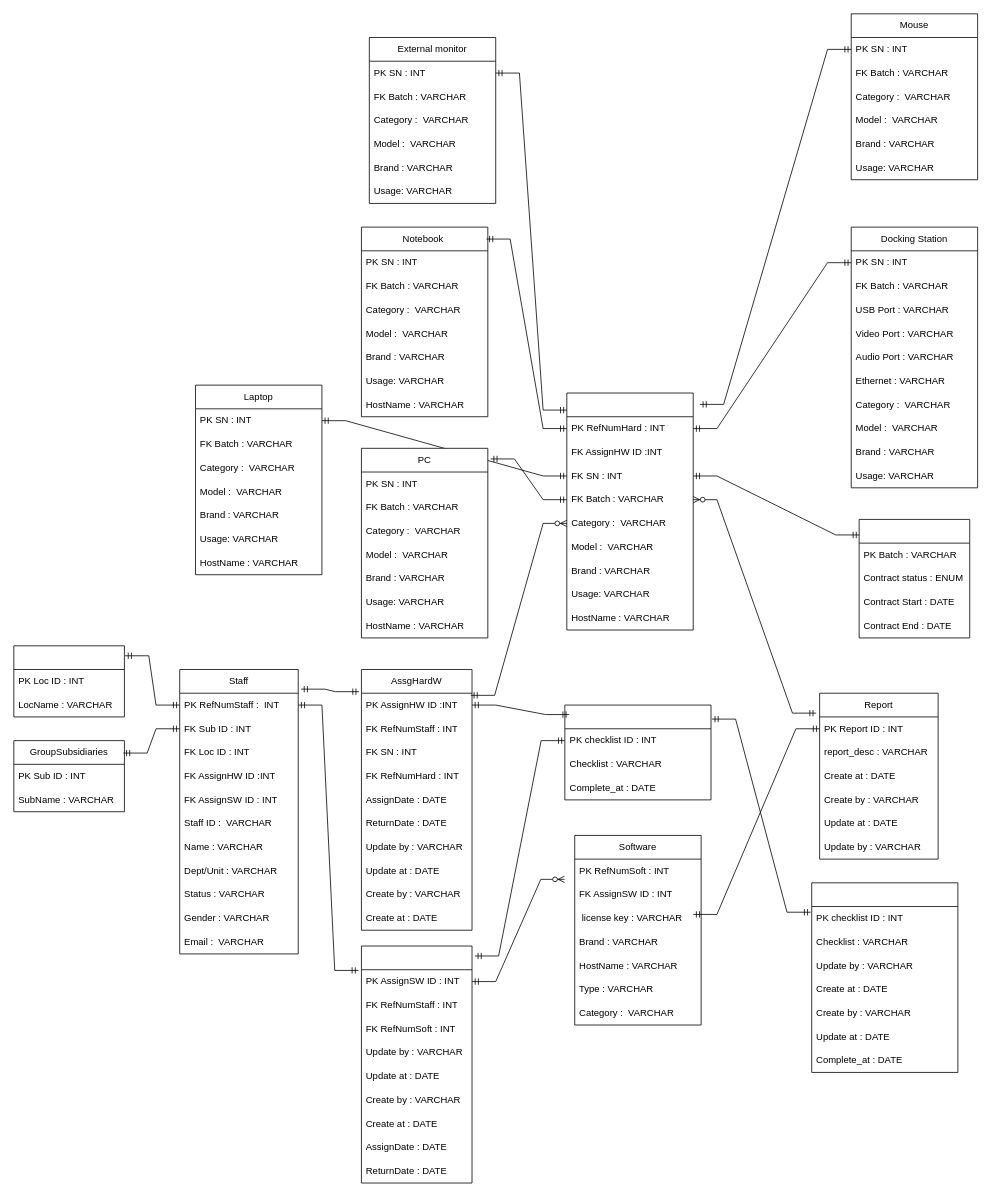
The diagram is 991 pixels wide and 1197 high, and some of its shapes have lost their labels. Here are the shapes that lost their labels. From the top down, the box of each, then its label:
(566, 392, 693, 630): Hardware
(858, 519, 970, 638): Asset Contract
(13, 645, 124, 717): Location
(564, 704, 711, 800): IT Checklist
(811, 882, 958, 1072): IT Checklist Detail
(361, 945, 472, 1183): AssgSoftW
